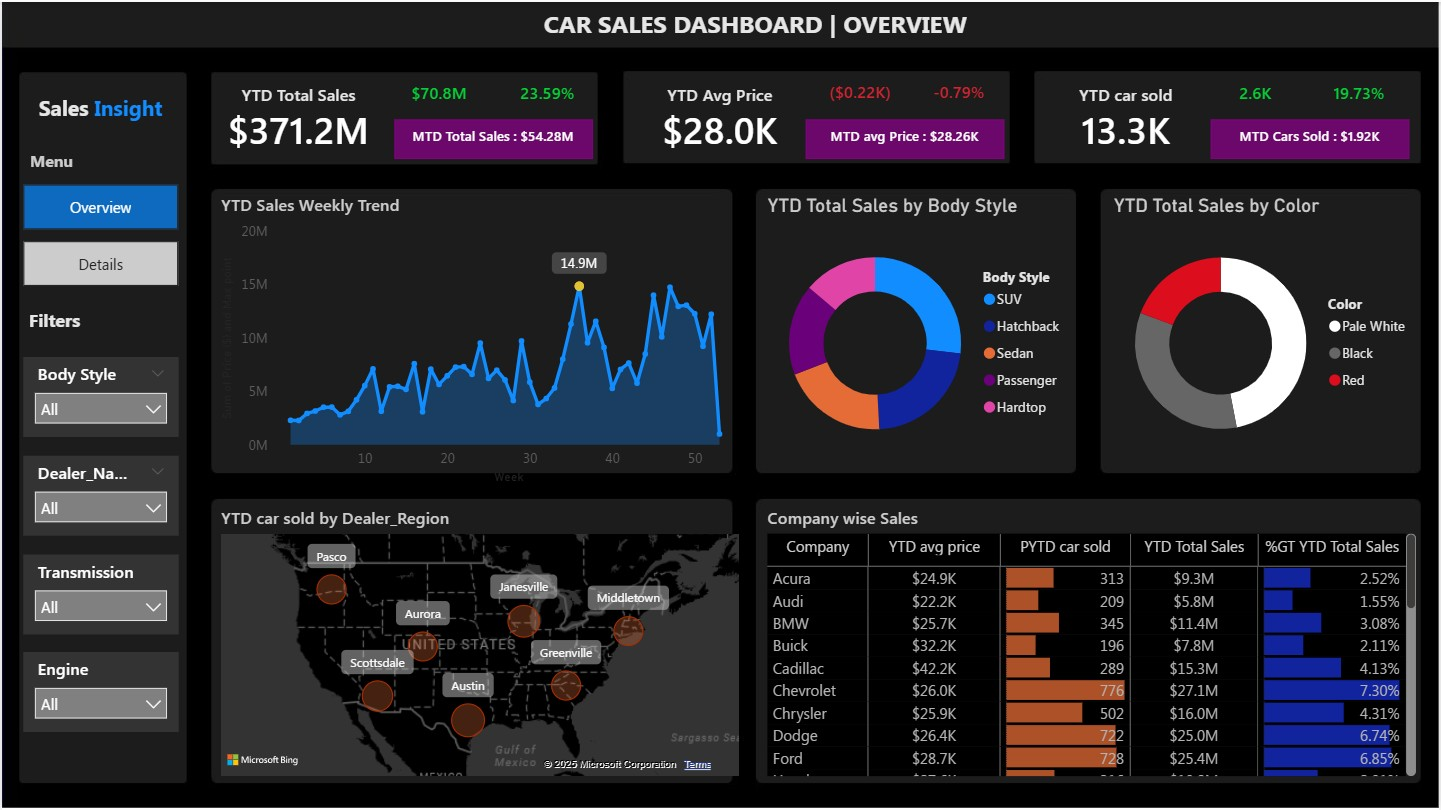

The dashboard page shown, as its layout file describes it:
{"tool":"powerbi","page":{"name":"Overview","canvas":[1280,720],"ordinal":0},"visuals":[{"type":"card","title":"YTD Total Sales","fields":{"Values":["car_data.YTD Total Sales"]},"box":[179.3,72.7,170,67.3],"z":0},{"type":"card","title":"PYTD Total Sales","fields":{"Values":["car_data.Sales Difference"]},"box":[349.3,68.7,80,27.3],"z":1000},{"type":"card","title":"PYTD Total Sales","fields":{"Values":["car_data.YoY Sales Growth"]},"box":[446.7,68.7,79.3,27.3],"z":2000},{"type":"card","fields":{"Values":["car_data.MDT KPI"]},"box":[349.3,104.7,176.7,35.3],"z":3000},{"type":"card","title":"YTD Avg Price","fields":{"Values":["car_data.YTD avg price"]},"box":[554.4,72.7,170.2,67.2],"z":4000},{"type":"card","title":"PYTD Total Sales","fields":{"Values":["car_data.Avg price diff"]},"box":[724.5,68.6,79.6,27.4],"z":5000},{"type":"card","title":"PYTD Total Sales","fields":{"Values":["car_data.YoY avg price growth"]},"box":[812.4,68.6,79.6,27.4],"z":6000},{"type":"card","fields":{"Values":["car_data.MTD avg price KPI"]},"box":[715.8,104.2,176.8,35.1],"z":7000},{"type":"card","title":"YTD car sold","fields":{"Values":["car_data.YTD car sold"]},"box":[915.7,72.7,169.6,67.8],"z":8000},{"type":"card","title":"PYTD Total Sales","fields":{"Values":["car_data.Car sold diff"]},"box":[1076.8,69,79.9,27.9],"z":9000},{"type":"card","title":"PYTD Total Sales","fields":{"Values":["car_data.YoY car sold growth"]},"box":[1168.8,69,79.9,27.9],"z":10000},{"type":"card","fields":{"Values":["car_data.MTD cars sold KPI"]},"box":[1076.8,104.2,176.8,35.1],"z":11000},{"type":"areaChart","title":"YTD Sales Weekly Trend","fields":{"Category":["Calender Table.Week"],"Y":["Sum(car_data.Price ($))","Calender Table.Max point"]},"box":[190.2,170.8,471.2,264],"z":12000},{"type":"donutChart","fields":{"Category":["car_data.Body Style"],"Y":["car_data.YTD Total Sales"]},"box":[676.8,171.3,278.7,246.1],"z":13000},{"type":"donutChart","fields":{"Y":["car_data.YTD Total Sales"],"Category":["car_data.Color"]},"box":[985.7,171.3,278.7,246.1],"z":14000},{"type":"pivotTable","title":"Company wise Sales","fields":{"Rows":["car_data.Company"],"Values":["car_data.YTD avg price","car_data.PYTD car sold","car_data.YTD Total Sales1","car_data.YTD Total Sales"]},"box":[676.8,448.8,587.5,246.1],"z":16000},{"type":"textbox","box":[477.9,0,398.8,45.3],"z":17000},{"type":"slicer","fields":{"Values":["car_data.Body Style"]},"box":[19.3,316.5,138.4,70.9],"z":18000},{"type":"slicer","fields":{"Values":["car_data.Dealer_Name"]},"box":[19.3,403.7,138.4,70.9],"z":19000},{"type":"slicer","fields":{"Values":["car_data.Transmission"]},"box":[19.3,492.1,138.4,70.9],"z":20000},{"type":"slicer","fields":{"Values":["car_data.Engine"]},"box":[19.3,579.3,138.4,70.9],"z":21000},{"type":"textbox","box":[19.3,267.6,68.6,36],"z":22000},{"type":"textbox","box":[27.9,76.7,130.2,45.3],"z":23000},{"type":"textbox","box":[19.8,126.7,68.6,36],"z":24000},{"type":"pageNavigator","box":[19.3,162.9,138.7,90.5],"z":25000},{"type":"map","fields":{"Category":["car_data.Dealer_Region"],"Series":["car_data.Company"],"Size":["car_data.YTD car sold"]},"box":[190,449,471,246],"z":25001}]}

Visuals, with their boxes in screenshot pixels (x1, y1, x2, y2), scaled from the page's 1280x720 canvas onto the 1441x810 screenshot:
"YTD Total Sales" card: (202,82,393,158)
"PYTD Total Sales" card: (393,77,483,108)
"PYTD Total Sales" card: (503,77,592,108)
card - car_data.MDT KPI: (393,118,592,158)
"YTD Avg Price" card: (624,82,816,157)
"PYTD Total Sales" card: (816,77,905,108)
"PYTD Total Sales" card: (915,77,1004,108)
card - car_data.MTD avg price KPI: (806,117,1005,157)
"YTD car sold" card: (1031,82,1222,158)
"PYTD Total Sales" card: (1212,78,1302,109)
"PYTD Total Sales" card: (1316,78,1406,109)
card - car_data.MTD cars sold KPI: (1212,117,1411,157)
"YTD Sales Weekly Trend" areaChart: (214,192,745,489)
donutChart - car_data.Body Style x car_data.YTD Total Sales: (762,193,1076,470)
donutChart - car_data.YTD Total Sales x car_data.Color: (1110,193,1423,470)
"Company wise Sales" pivotTable: (762,505,1423,782)
textbox: (538,0,987,51)
slicer - car_data.Body Style: (22,356,178,436)
slicer - car_data.Dealer_Name: (22,454,178,534)
slicer - car_data.Transmission: (22,554,178,633)
slicer - car_data.Engine: (22,652,178,731)
textbox: (22,301,99,342)
textbox: (31,86,178,137)
textbox: (22,143,100,183)
pageNavigator: (22,183,178,285)
map - car_data.Dealer_Region x car_data.Company: (214,505,744,782)
